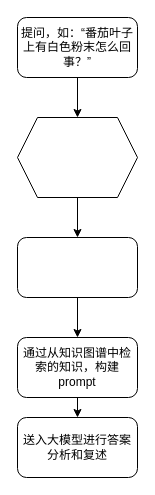
Image size: 155x495. Some labels were removed from this diagram. The shapes that lost their labels are listed below. From the top down, each one's centre as x and y in pixels, then its label:
point 77,157: 星火大模型理解并生成图数据库查询语言
point 77,267: 知识图谱
